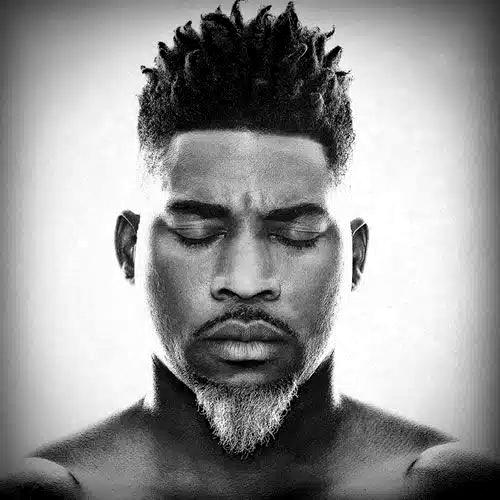bar: (163, 330, 332, 454), (192, 303, 296, 336)
